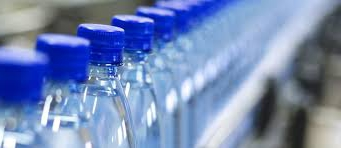plastic water bottle: (73, 18, 128, 148), (109, 9, 159, 148)
